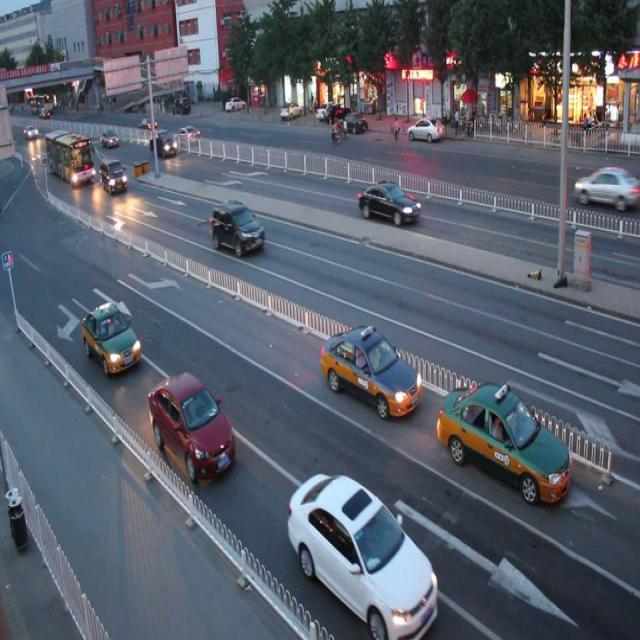car: (287, 469, 439, 640), (435, 379, 571, 502), (148, 371, 236, 480), (320, 324, 421, 416), (81, 300, 142, 376), (211, 201, 264, 256), (357, 179, 419, 224), (572, 166, 628, 209)
